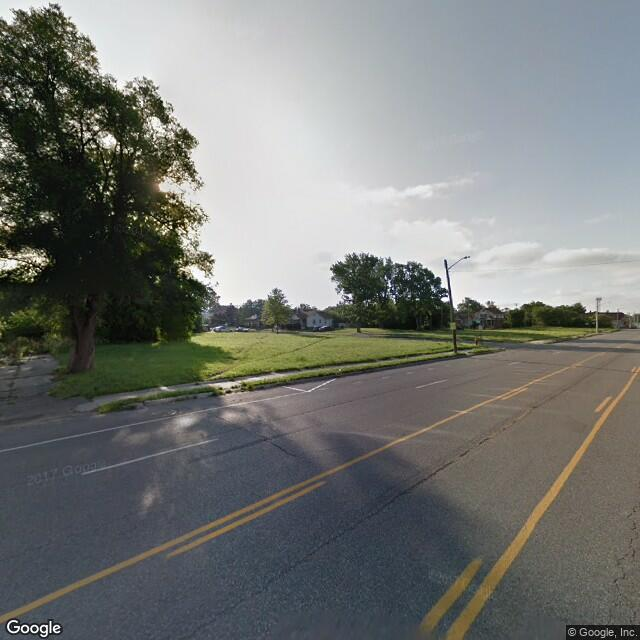litter: (336, 368, 343, 373)
